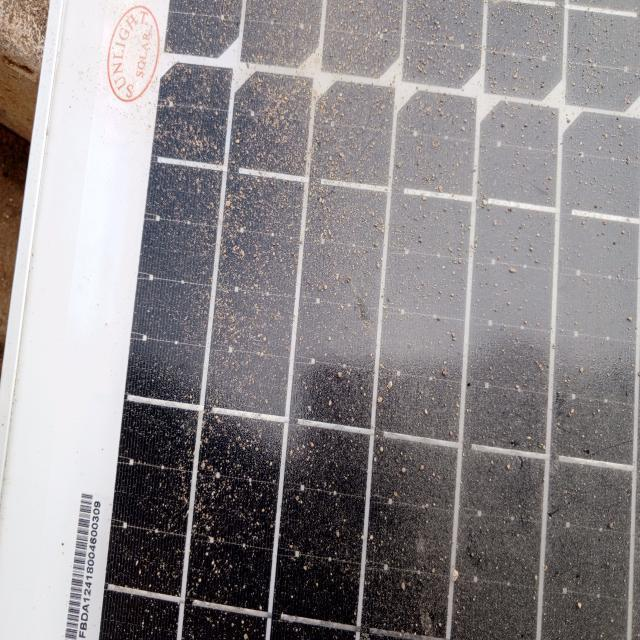Surface Contaminant: (140, 13, 639, 633)
